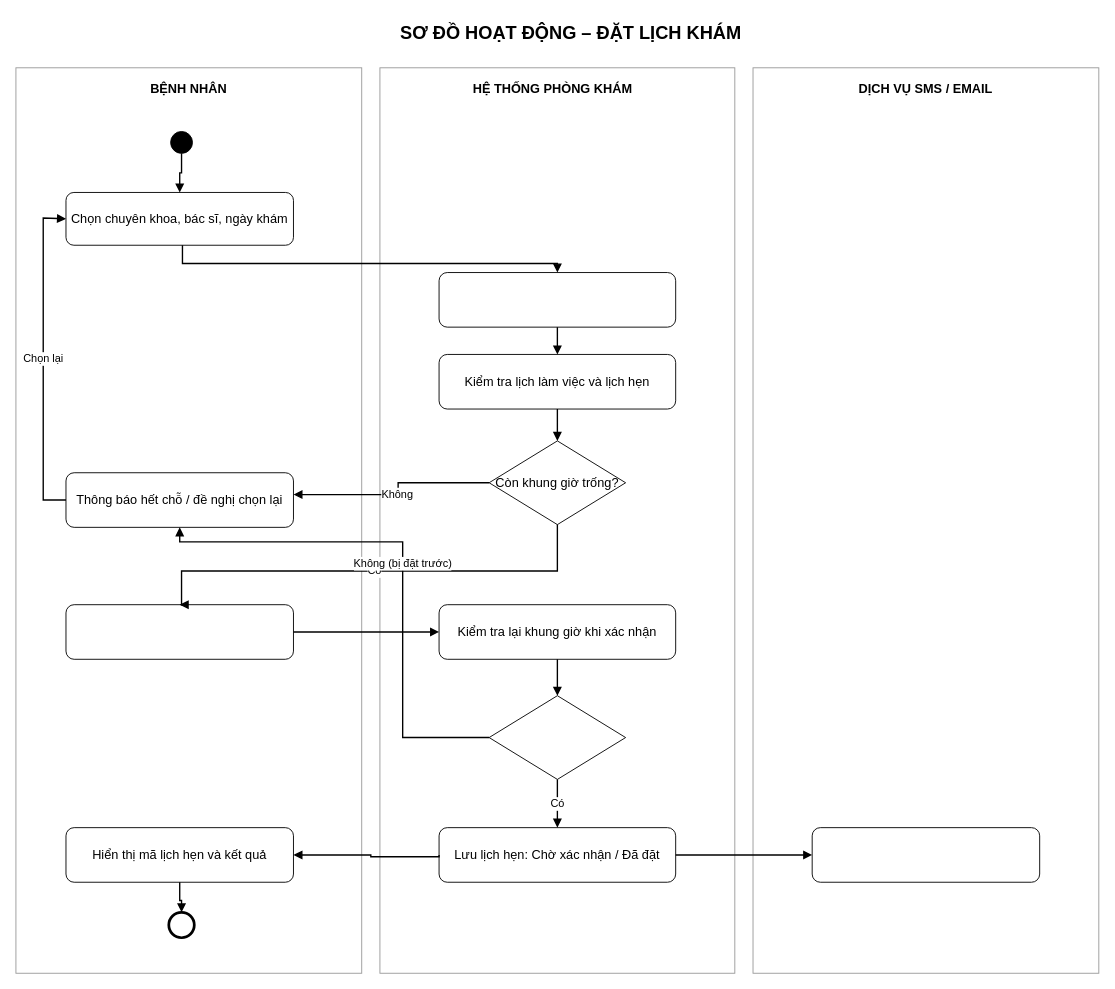
This 1115x989 diagram has some shape labels left out. Here are the shapes that lost their labels. From the top down, the centre of each, then its label:
At [557,299]: "Yêu cầu danh sách khung giờ trống".
At [179,631]: "Chọn khung giờ và nhập thông tin".
At [557,737]: "Khung giờ vẫn còn?".
At [925,854]: "Gửi xác nhận lịch hẹn".
